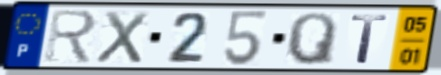2: (164, 11, 210, 65)
5: (221, 8, 270, 68)
Q: (284, 11, 339, 67)
R: (42, 8, 100, 66)
T: (349, 13, 391, 66)
X: (92, 9, 150, 66)
